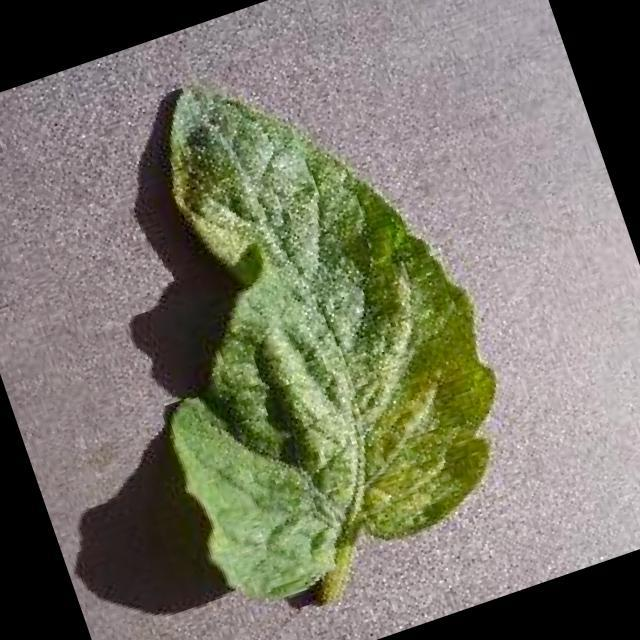Tomato spider mites leaf: (64, 24, 540, 612)
